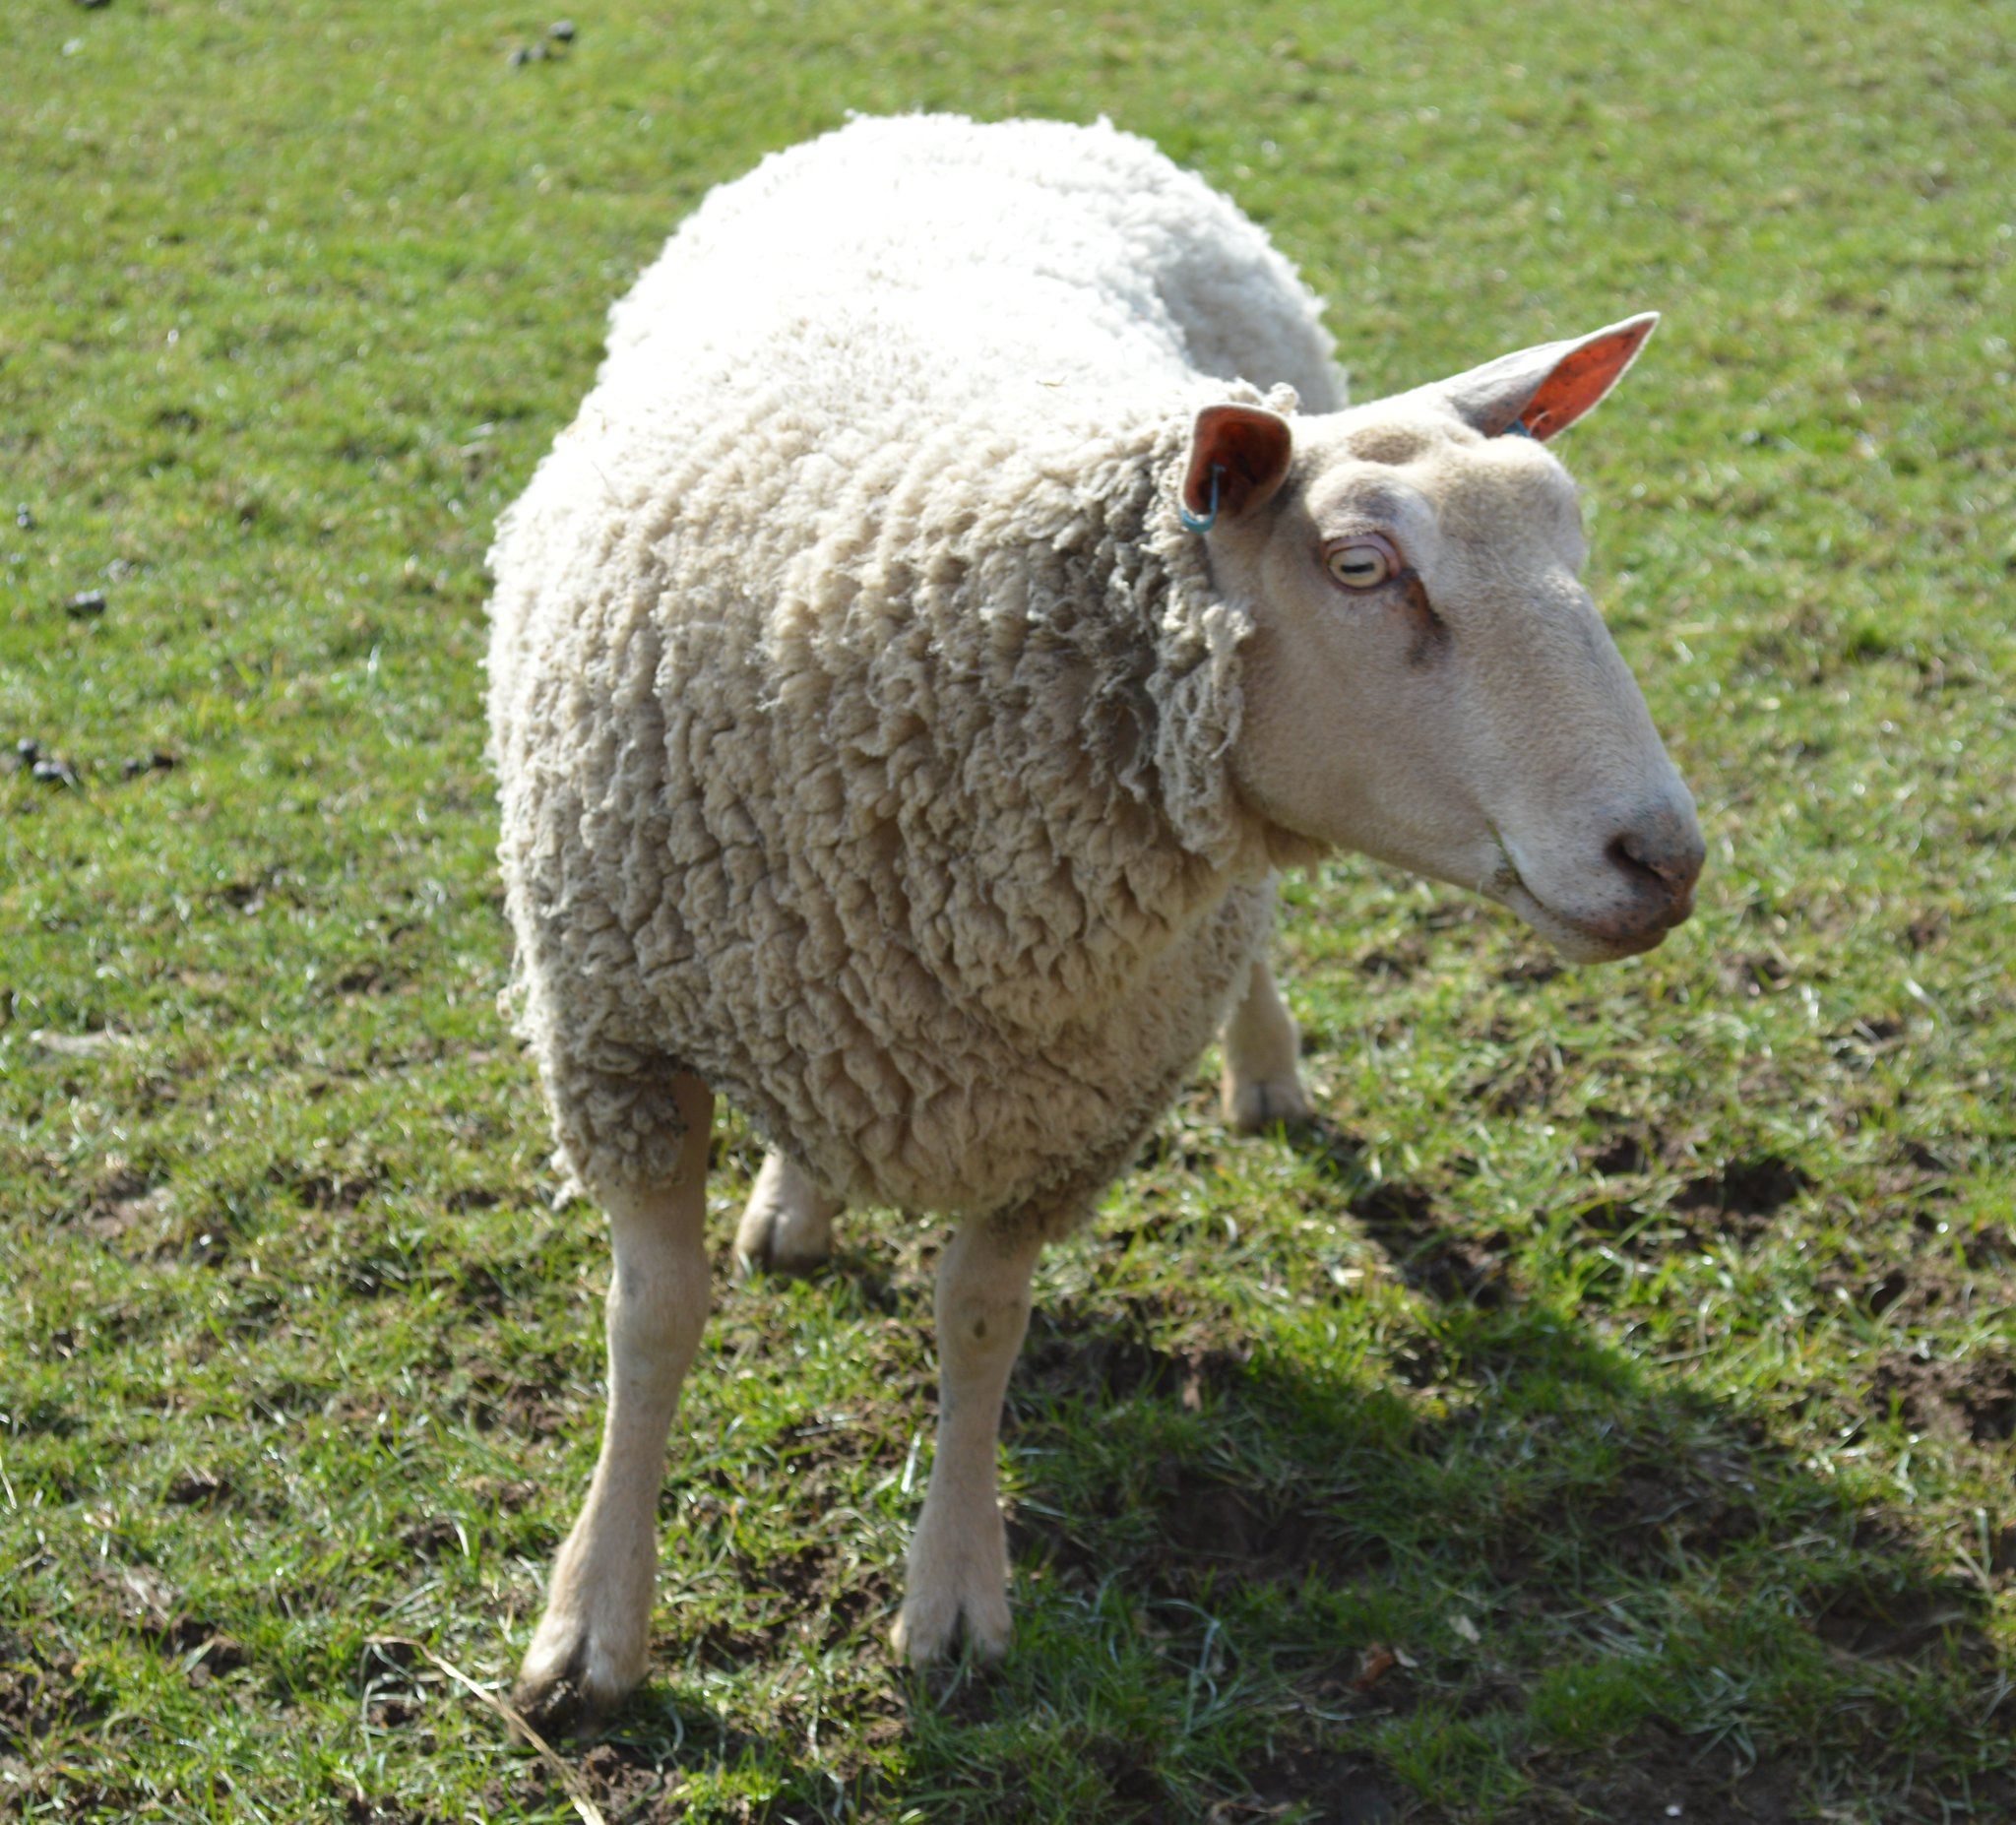sheep: (497, 97, 1714, 1781)
